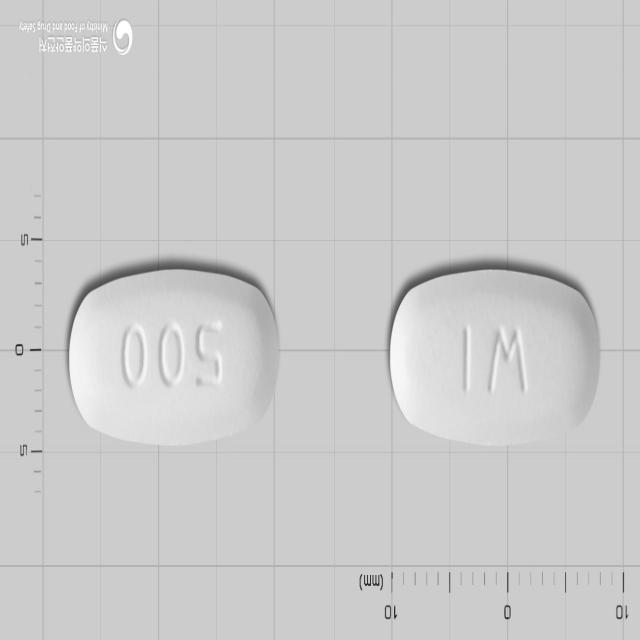Cefixime Cap- Reyon: (388, 268, 600, 446), (67, 269, 279, 444)
